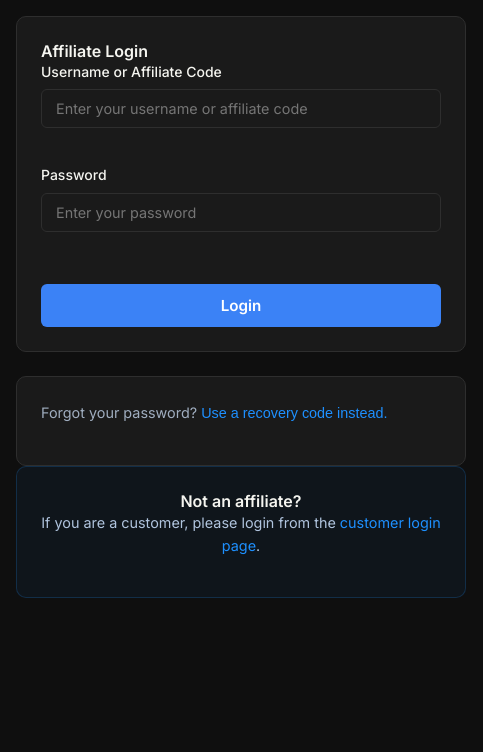
Scenario: affiliate.jsx — Affiliate Login Page › password recovery flow › reveals step 1 recovery form when recovery code link is clicked
The width and height of the screenshot is (483, 752).
Click the button "Use a recovery code instead.": (294, 413) [201,405,388,421]
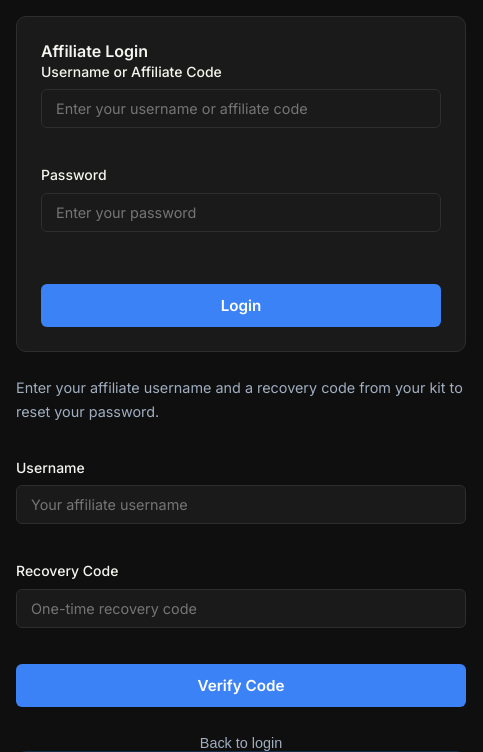
expect the field with placeholder "Your affiliate username" is shown: met, box [16,485,466,524]
expect the field with placeholder "One-time recovery code" is shown: met, box [16,588,466,628]
expect the button "Verify Code" is shown: met, box [16,664,466,706]
